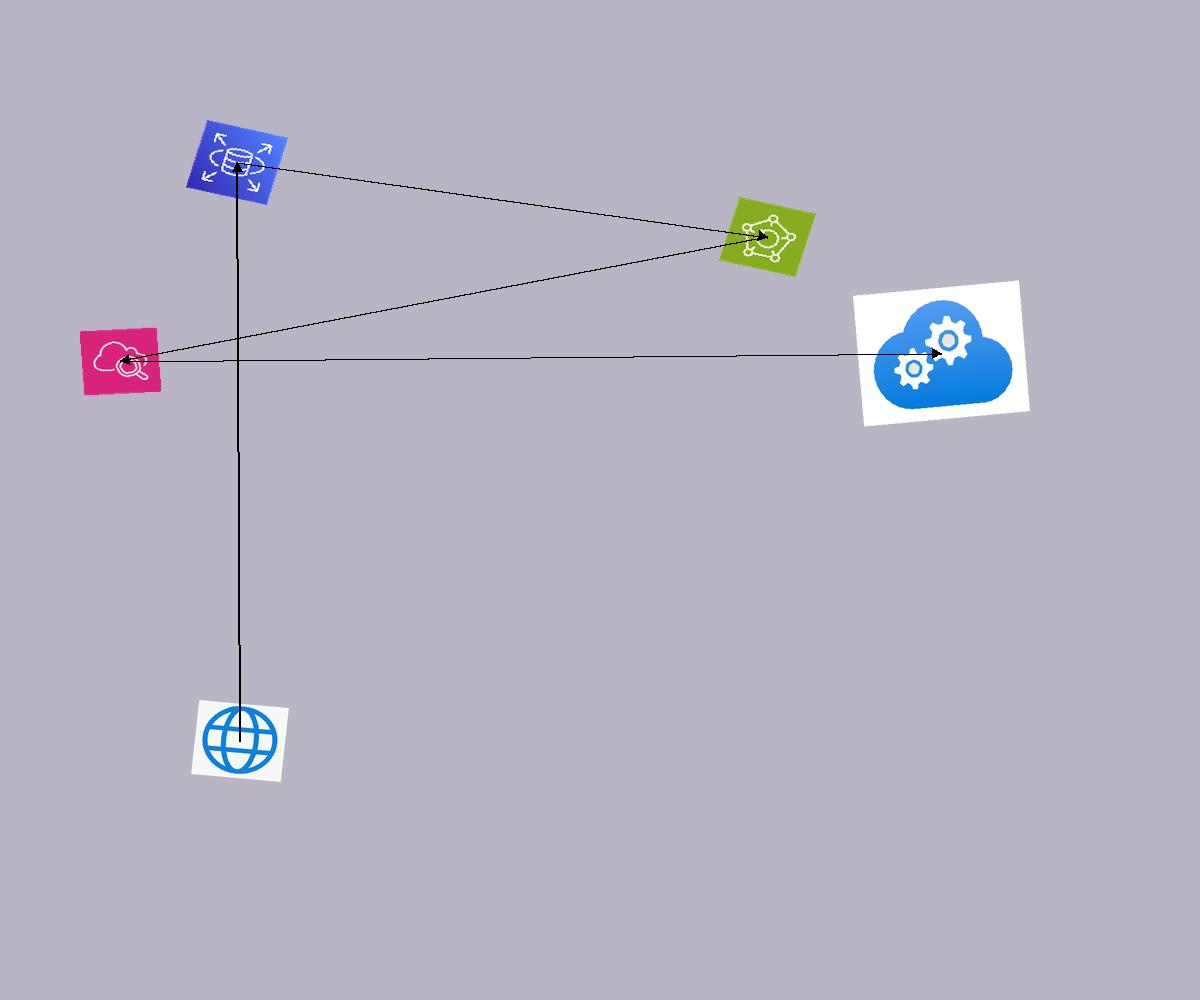AWS-Backup: (719, 197, 816, 277)
AWS-CloudWatch: (79, 327, 162, 396)
AWS-RDS: (186, 120, 288, 205)
Azure_cloud_services: (853, 280, 1030, 427)
Azure_http: (191, 700, 289, 782)
